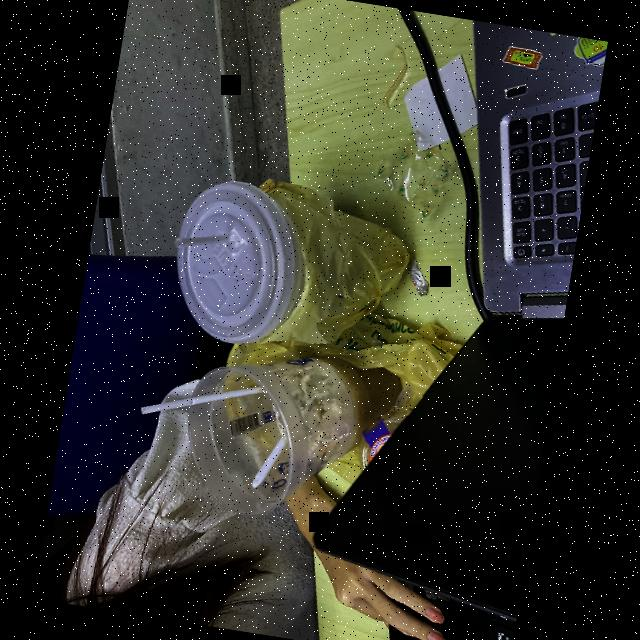plastic_bag: (206, 284, 472, 500), (234, 178, 420, 360)
plastic_cup: (168, 330, 406, 540)
plastic_cup_lid: (160, 170, 316, 357)
plastic_spoon: (136, 363, 272, 437)
scrap_paper: (392, 44, 491, 161)
scrap_plastic: (364, 125, 470, 224), (395, 248, 440, 299)
straw: (247, 432, 287, 494), (171, 221, 232, 256)
